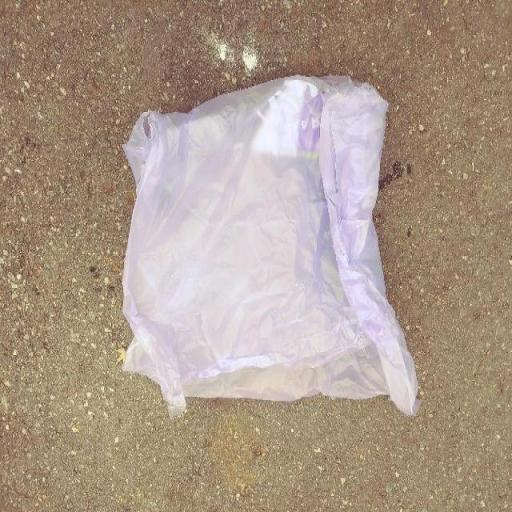plastic-bag: (120, 72, 418, 422)
